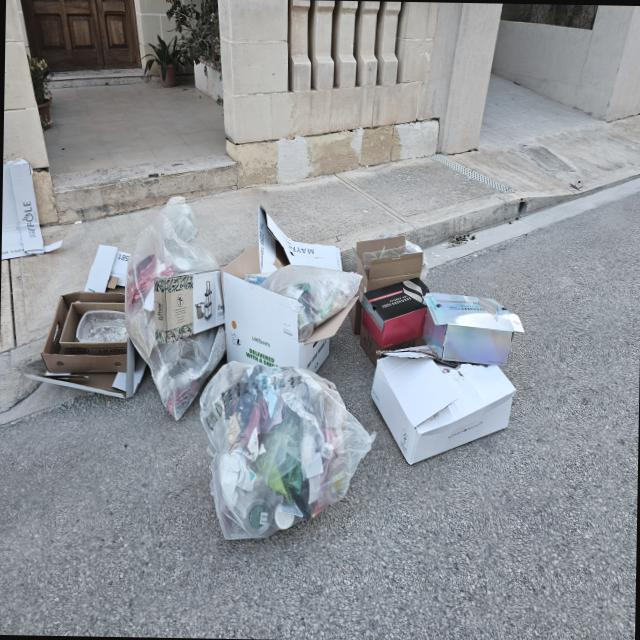grey_bag: (352, 242, 532, 466), (192, 360, 378, 545), (264, 264, 362, 328)
other_waste: (32, 226, 138, 427), (1, 150, 45, 270), (153, 278, 225, 326)
